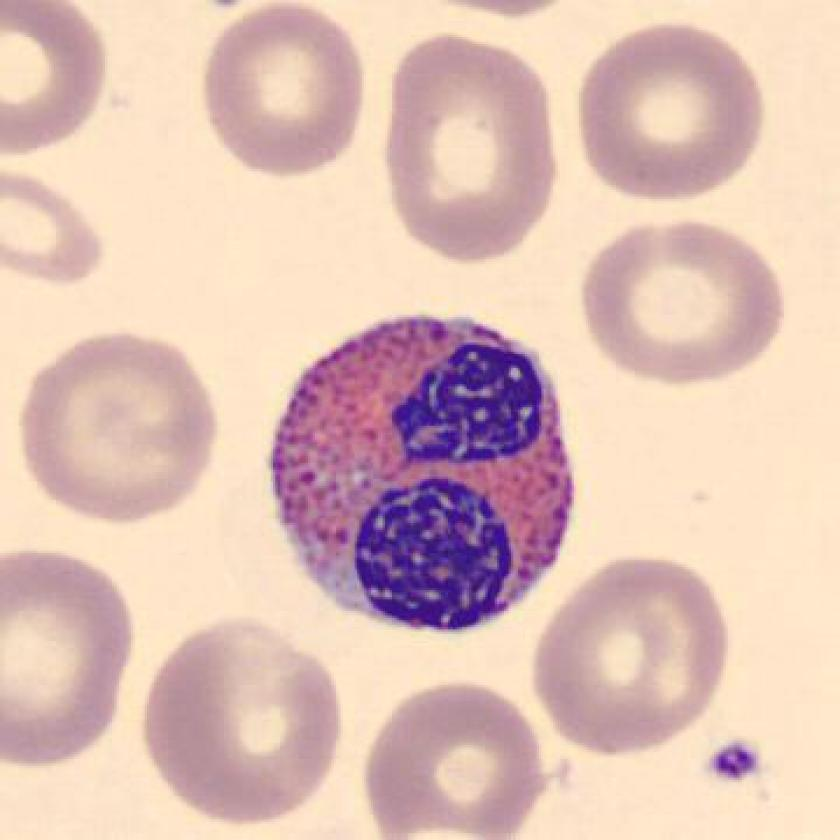eosinophil: (255, 297, 594, 640)
